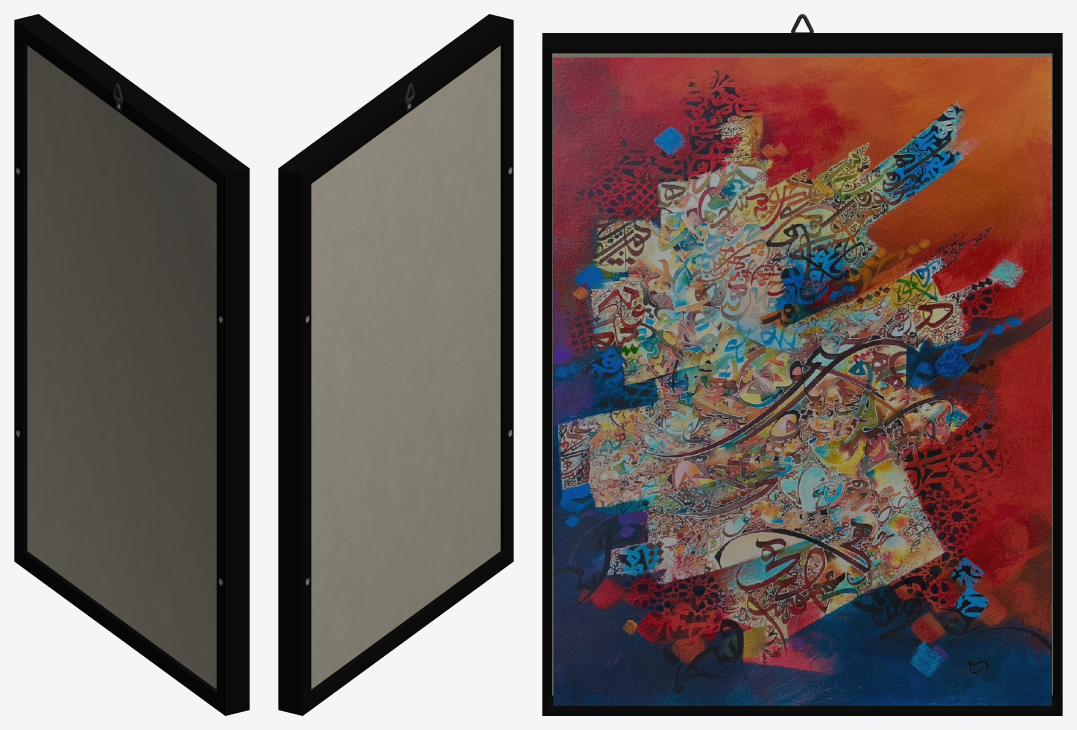
Rendered from table 8.glb.
3 renders of one model, left to right at view 1: azimuth 30°, elevation 25°; view 2: azimuth 150°, elevation 25°; view 3: azimuth 270°, elevation 25°, orthographic. The views are drawn at different scales.
Parts seen in each view (by area): view 1: Canvas.003, Frame.003; view 2: Canvas.003, Frame.003; view 3: Canvas.003, Frame.003.
Boxes of the visible parts, x1,y1,x2,y2 form: Canvas.003: (27,45,216,689); Frame.003: (14,14,249,715); Canvas.003: (311,45,500,689); Frame.003: (278,14,513,715); Canvas.003: (552,53,1052,705); Frame.003: (542,33,1062,715).
Size of the model in its own units: 0.0457 by 0.8722 by 0.6.
Materials: 5 (2 with a texture image).
